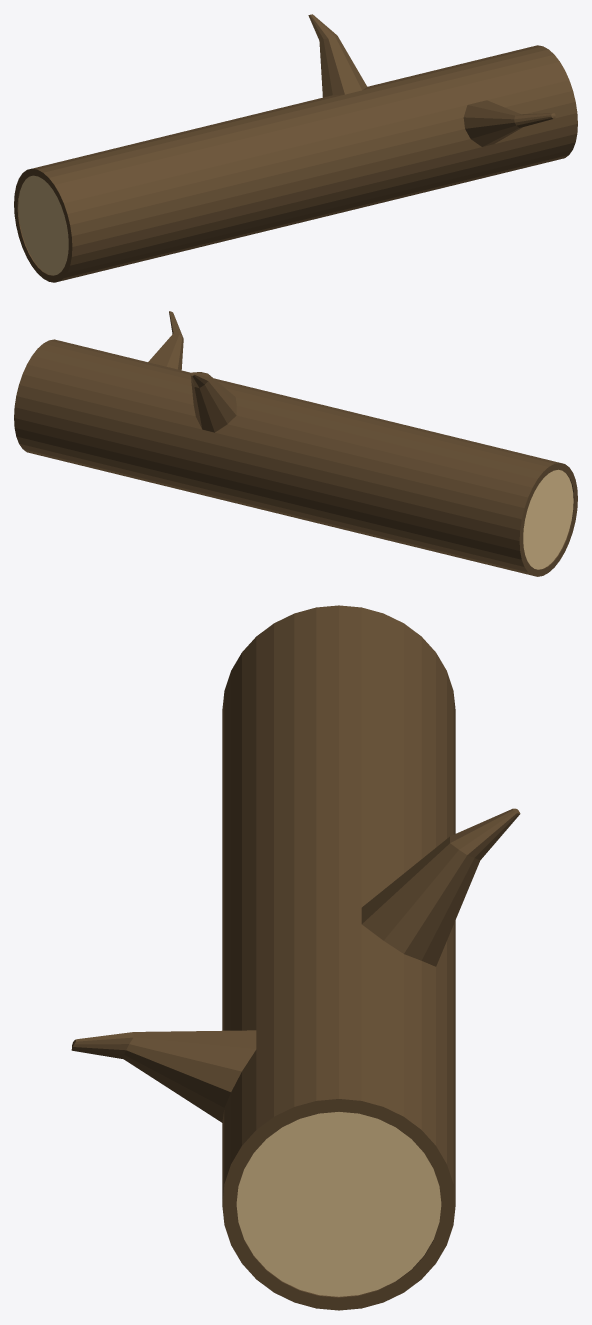
File: Wood.fbx
3 views of the same model, one above another, from view 1: azimuth 30°, elevation 25°; view 2: azimuth 150°, elevation 25°; view 3: azimuth 270°, elevation 25° (orthographic). The views are drawn at different scales.
Visible parts, largest first — view 1: Cube; view 2: Cube; view 3: Cube.
Boxes of the visible parts, x1,y1,x2,y2 form: Cube: (14, 14, 577, 282); Cube: (14, 311, 577, 576); Cube: (71, 605, 520, 1310).
Bounding box in the file's own units: 1000 × 295 × 384.
